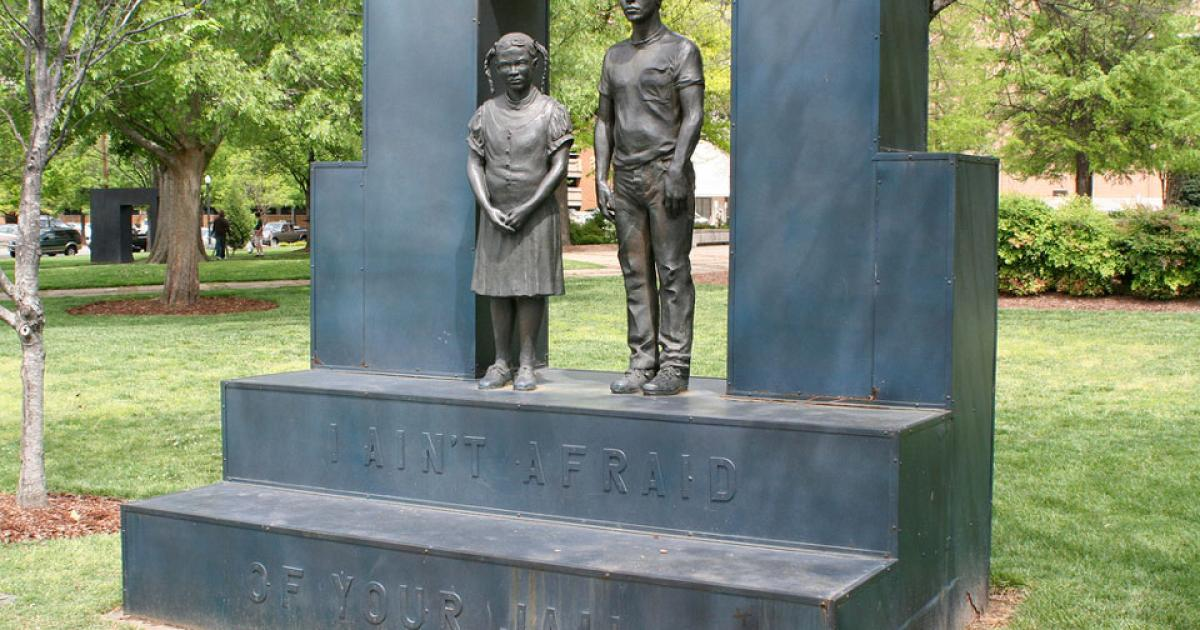person-like: (588, 1, 712, 403), (460, 27, 577, 396)
